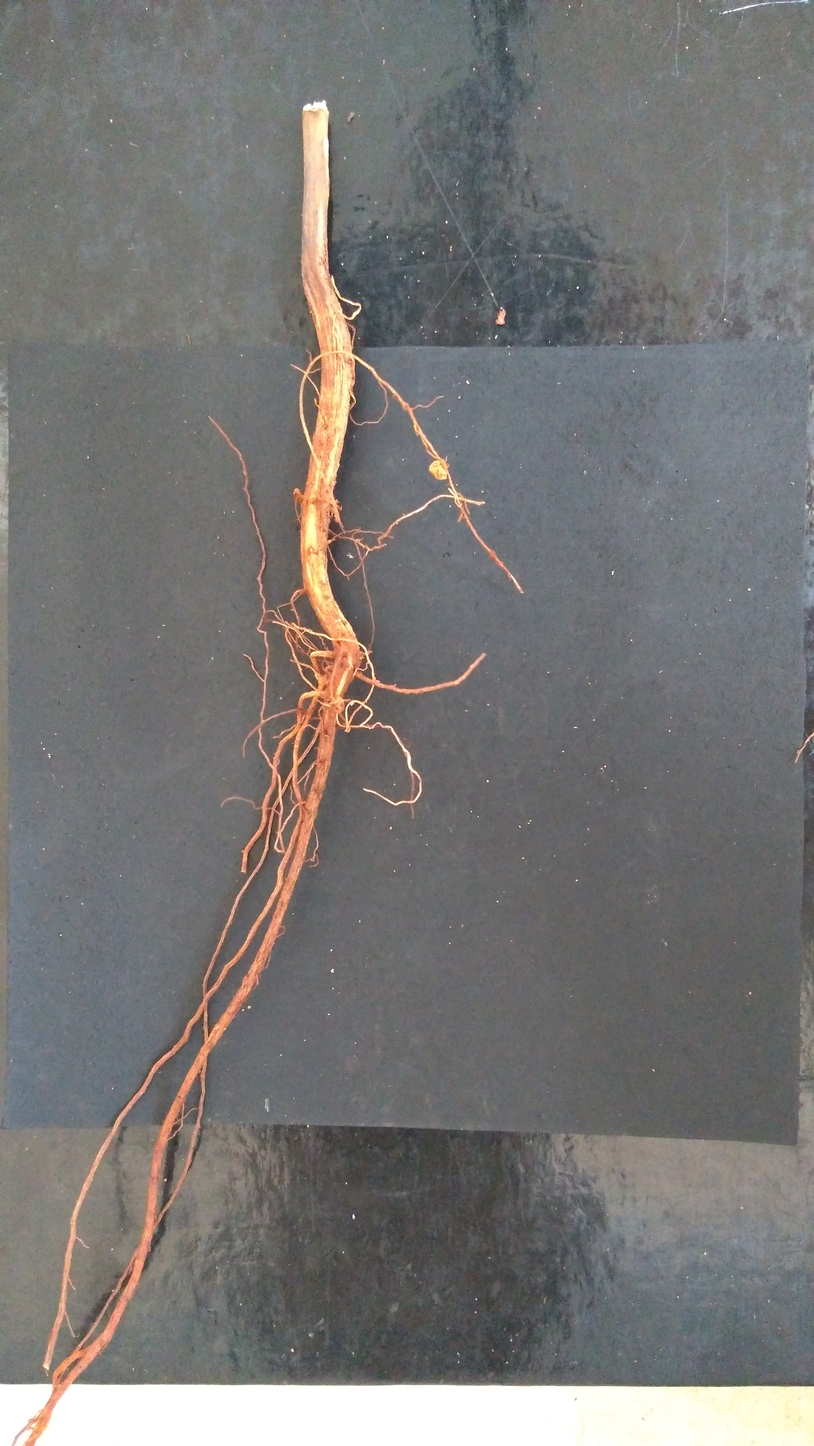nodule: (429, 460, 447, 480), (329, 696, 345, 714), (315, 672, 327, 685), (293, 488, 302, 504)
